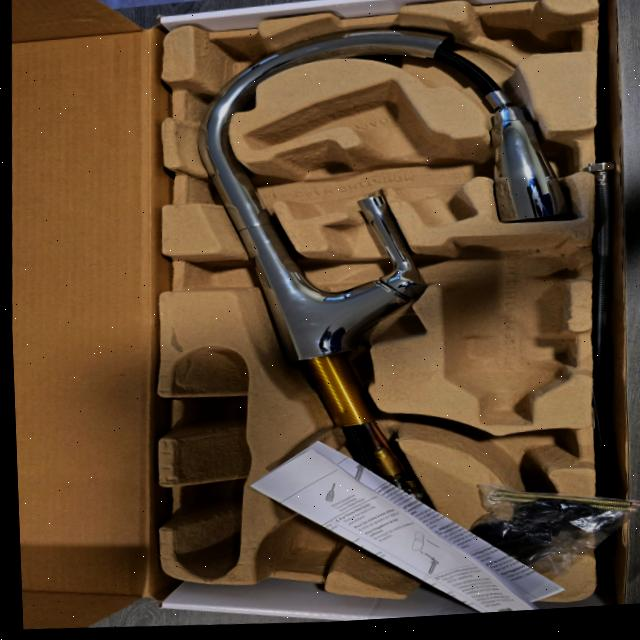1o: (194, 27, 573, 595)
2m: (246, 84, 475, 228)
3m: (447, 233, 572, 426)
4m: (173, 346, 253, 580)
5m: (276, 514, 345, 560)
6m: (429, 422, 578, 488)
7o: (436, 485, 640, 578)
8: (247, 440, 565, 613)
